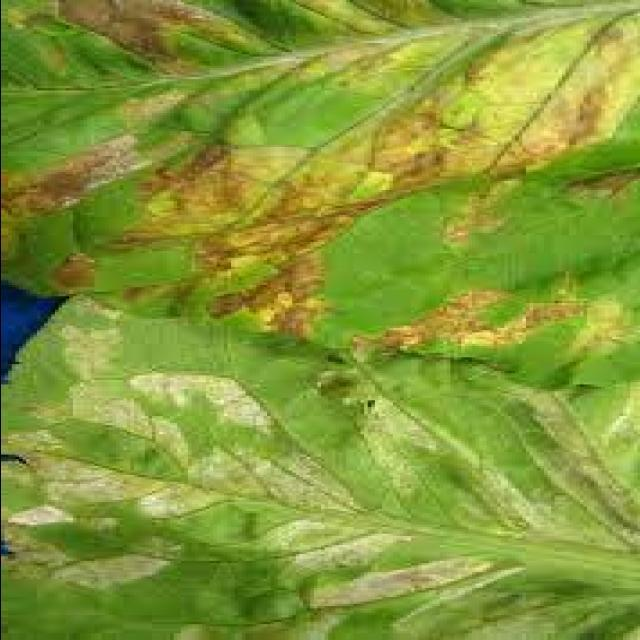Mature: (36, 26, 620, 290), (48, 384, 625, 619)
